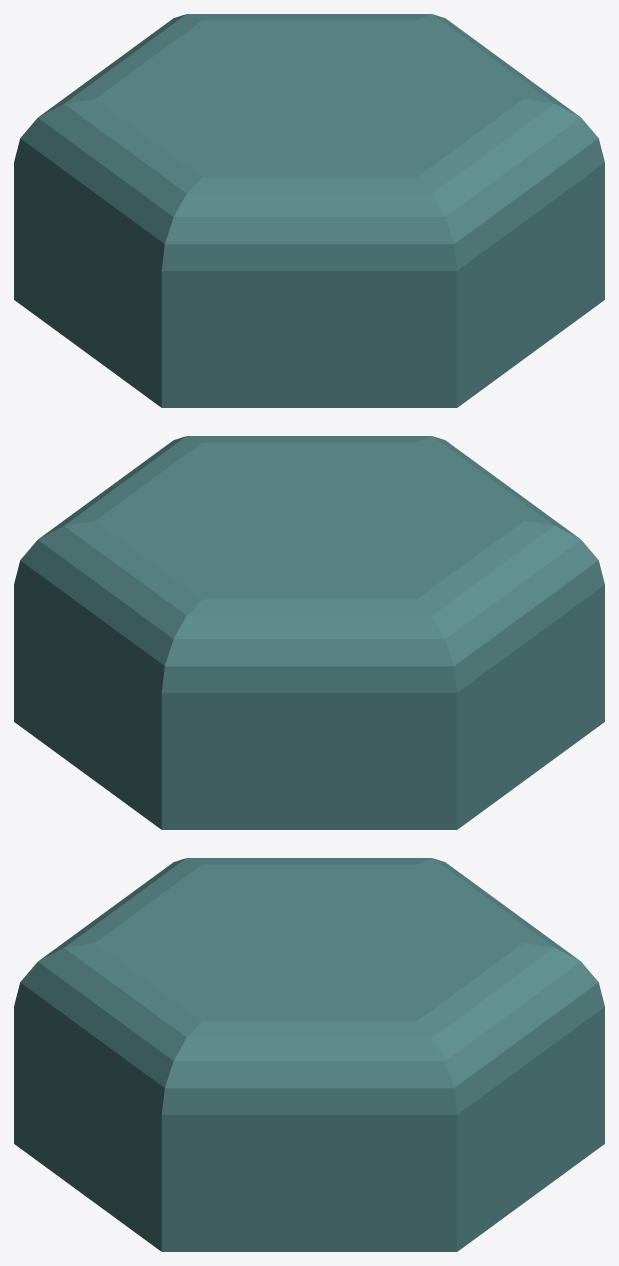
The model's file is Arkanoid_Assets_Swamp.fbx.
3 views of the same model, one above another, from view 1: azimuth 30°, elevation 25°; view 2: azimuth 150°, elevation 25°; view 3: azimuth 270°, elevation 25° (orthographic).
Parts seen in each view (by area): view 1: Puntos03; view 2: Puntos03; view 3: Puntos03.
Boxes of the visible parts, x1,y1,x2,y2 form: Puntos03: [14, 14, 604, 407]; Puntos03: [14, 436, 604, 829]; Puntos03: [14, 858, 604, 1251].
Size of the model in its own units: 346 by 150 by 400.
